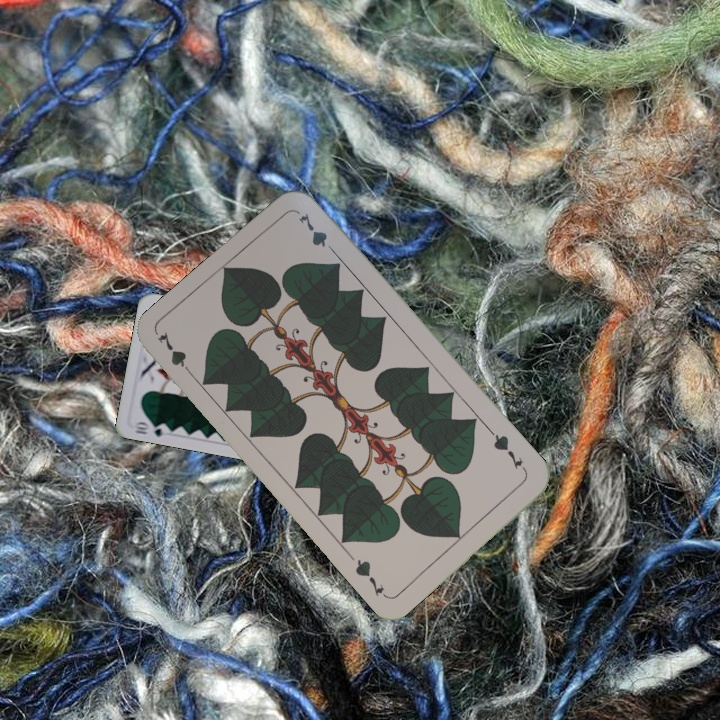G10: (130, 418, 171, 439)
G7: (153, 328, 198, 381), (486, 427, 526, 471)
